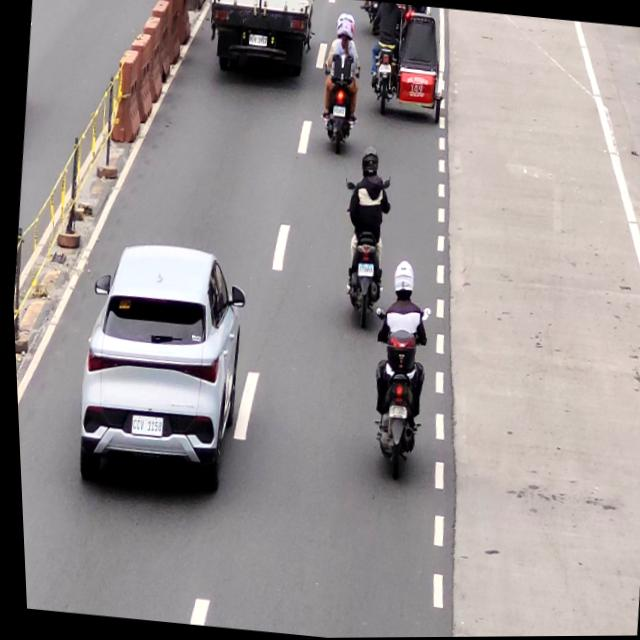Car: (64, 239, 247, 494)
License-Plate: (124, 414, 162, 438), (381, 404, 405, 421), (244, 32, 268, 48), (352, 260, 373, 277), (329, 103, 347, 120)
Motorcycle: (358, 260, 434, 485), (334, 143, 396, 327), (313, 16, 362, 154)
Tricycle: (365, 1, 448, 117)
Truck: (208, 0, 316, 84)
